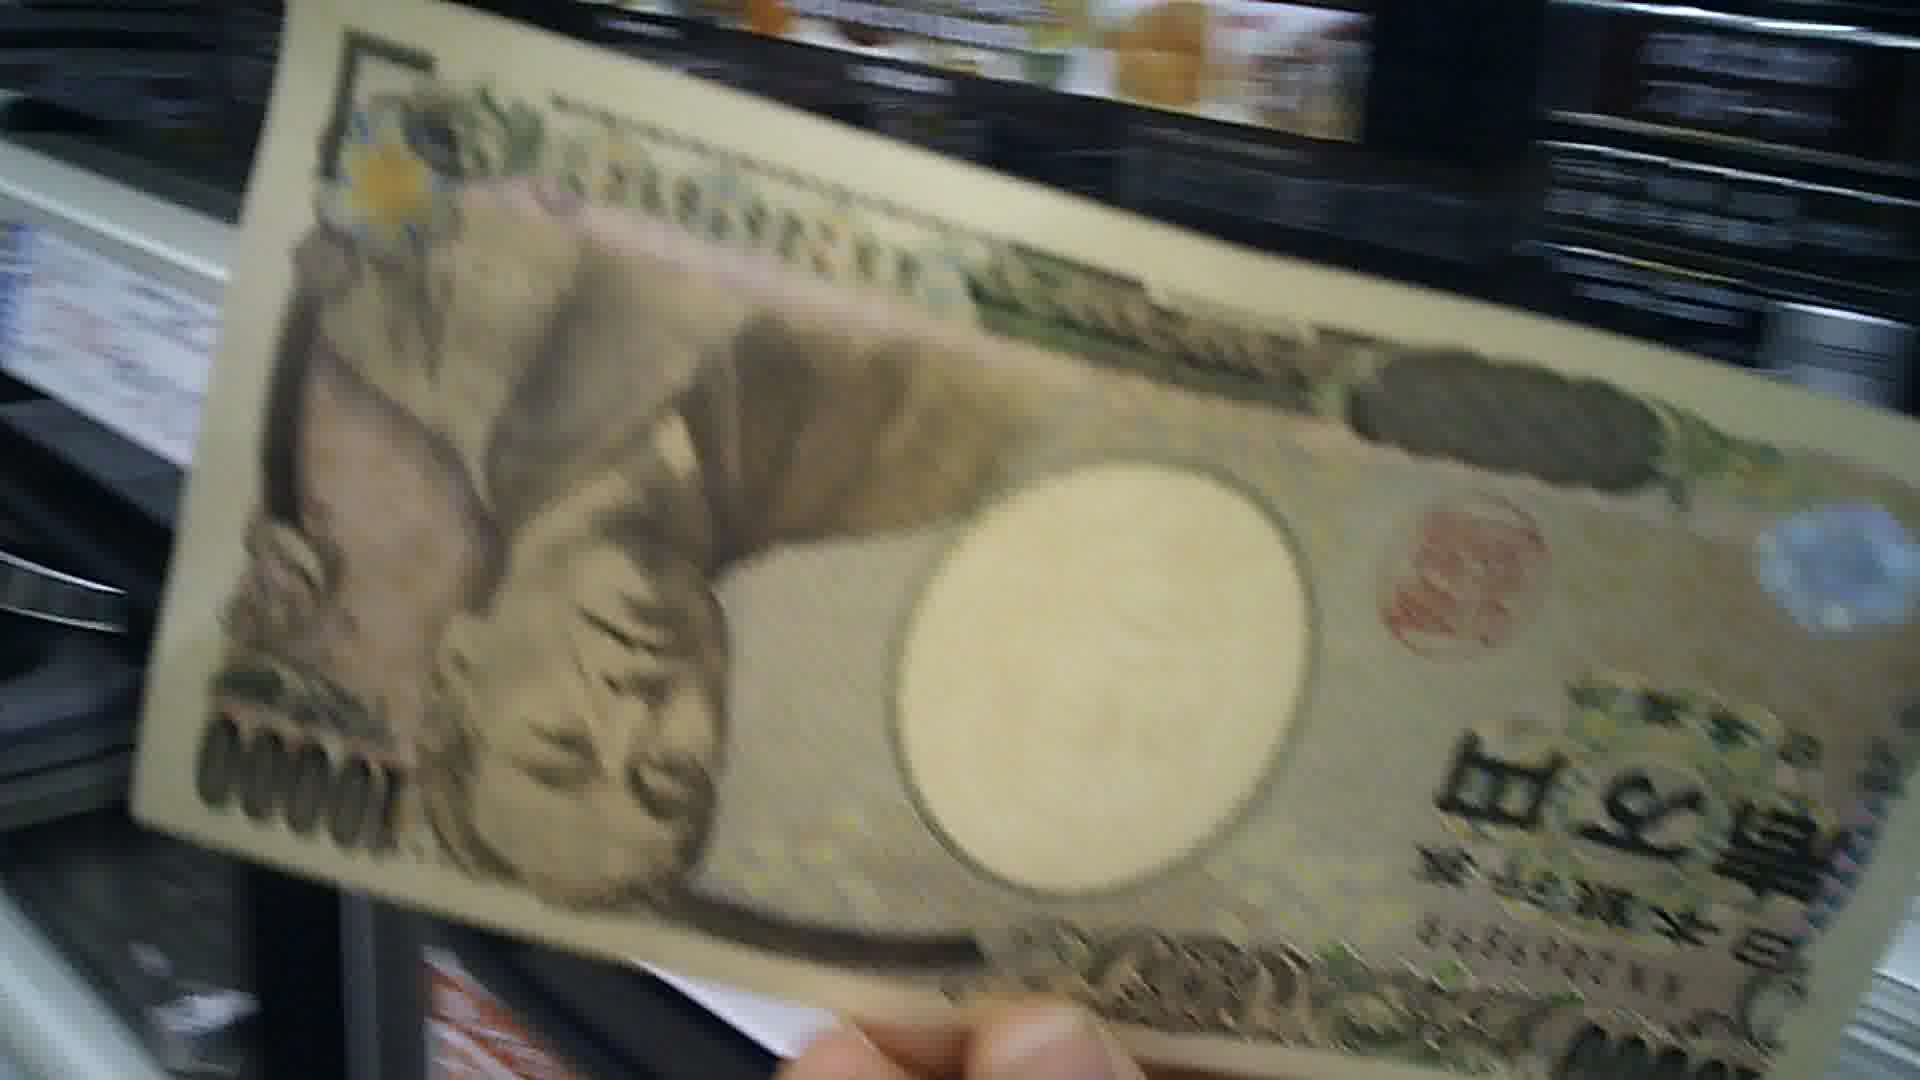10,000 Yen: (137, 11, 1913, 1043)
